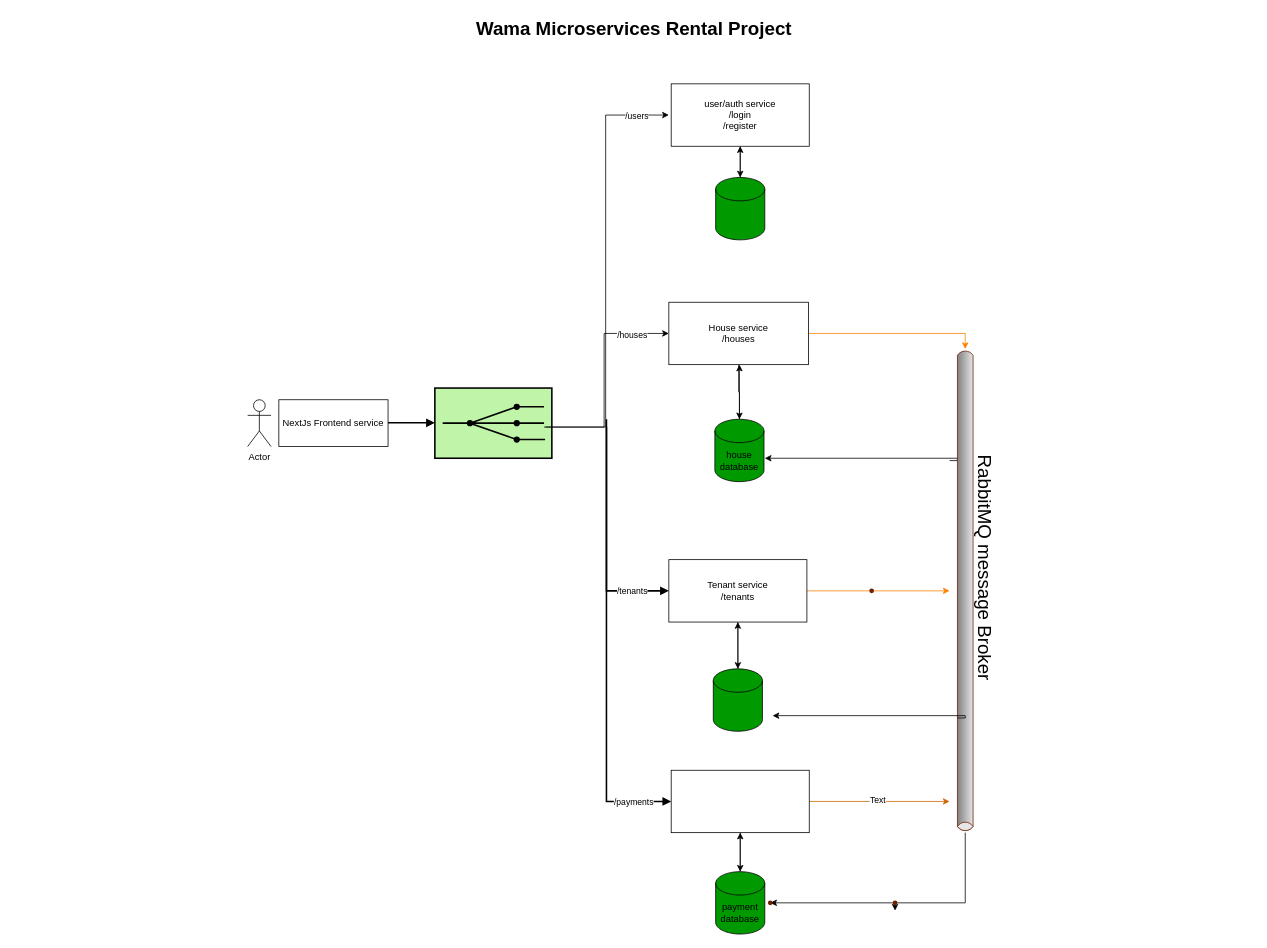
The diagram is 1267 pixels wide and 948 high, and some of its shapes have lost their labels. The centre of each missing label's shape, as x and y in pixels:
API-Gateway service: point 493,423
Payment service /payments: point 739,801
tenant database: point 737,699
user database: point 740,208
